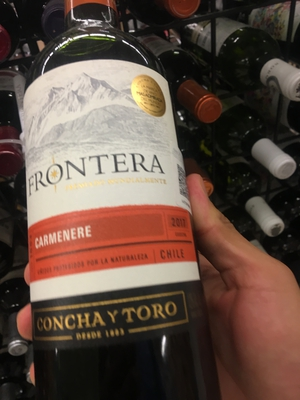frontera cabernet sauvignon: (24, 28, 208, 400)
